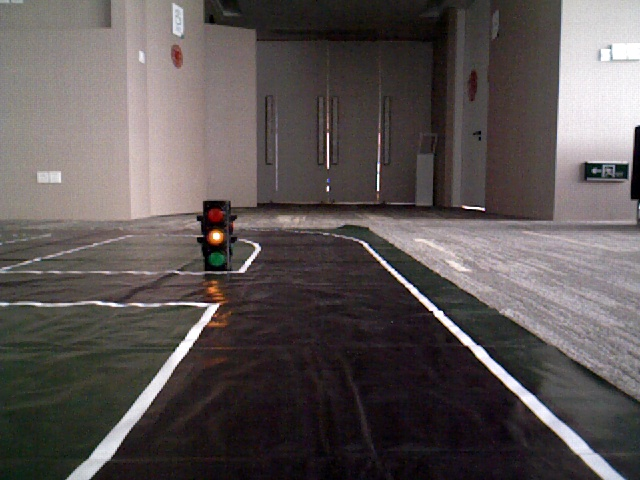yellow: (206, 202, 229, 267)
